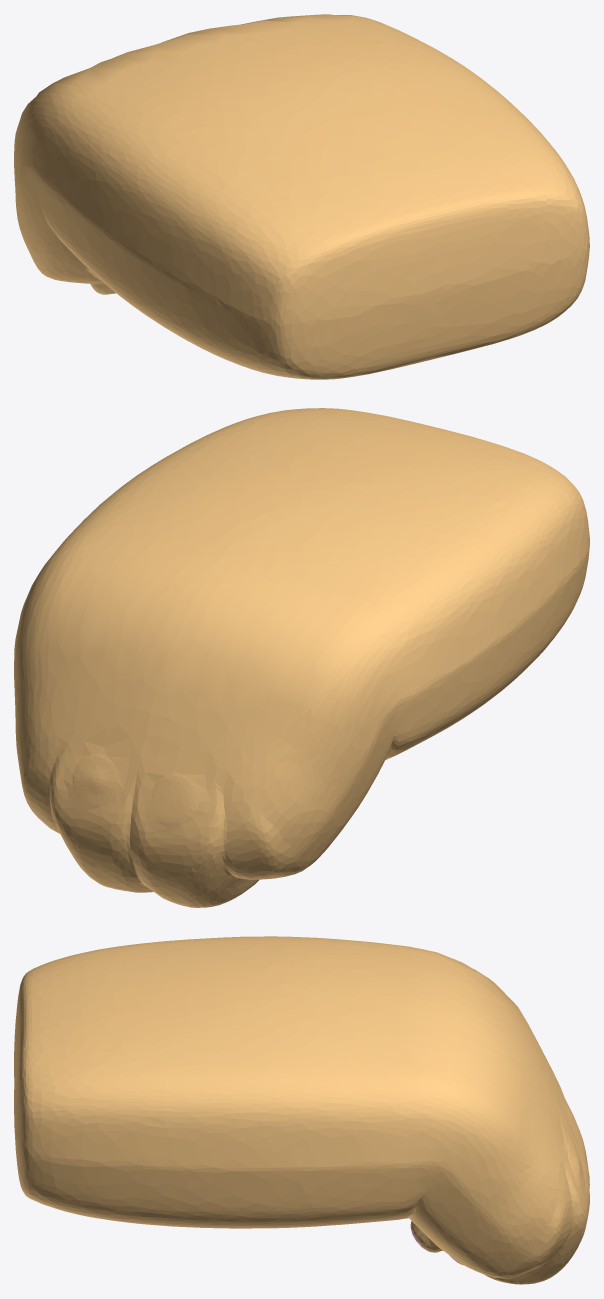
The model's file is pata_o_2.glb.
The picture shows the model from 3 angles, top to bottom: view 1: azimuth 30°, elevation 25°; view 2: azimuth 150°, elevation 25°; view 3: azimuth 270°, elevation 25°; orthographic projection. The views are drawn at different scales.
Size of the model in its own units: 0.0965 by 0.0705 by 0.135.
